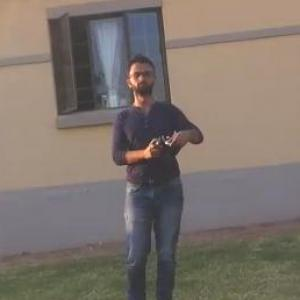follow: (102, 51, 208, 299)
